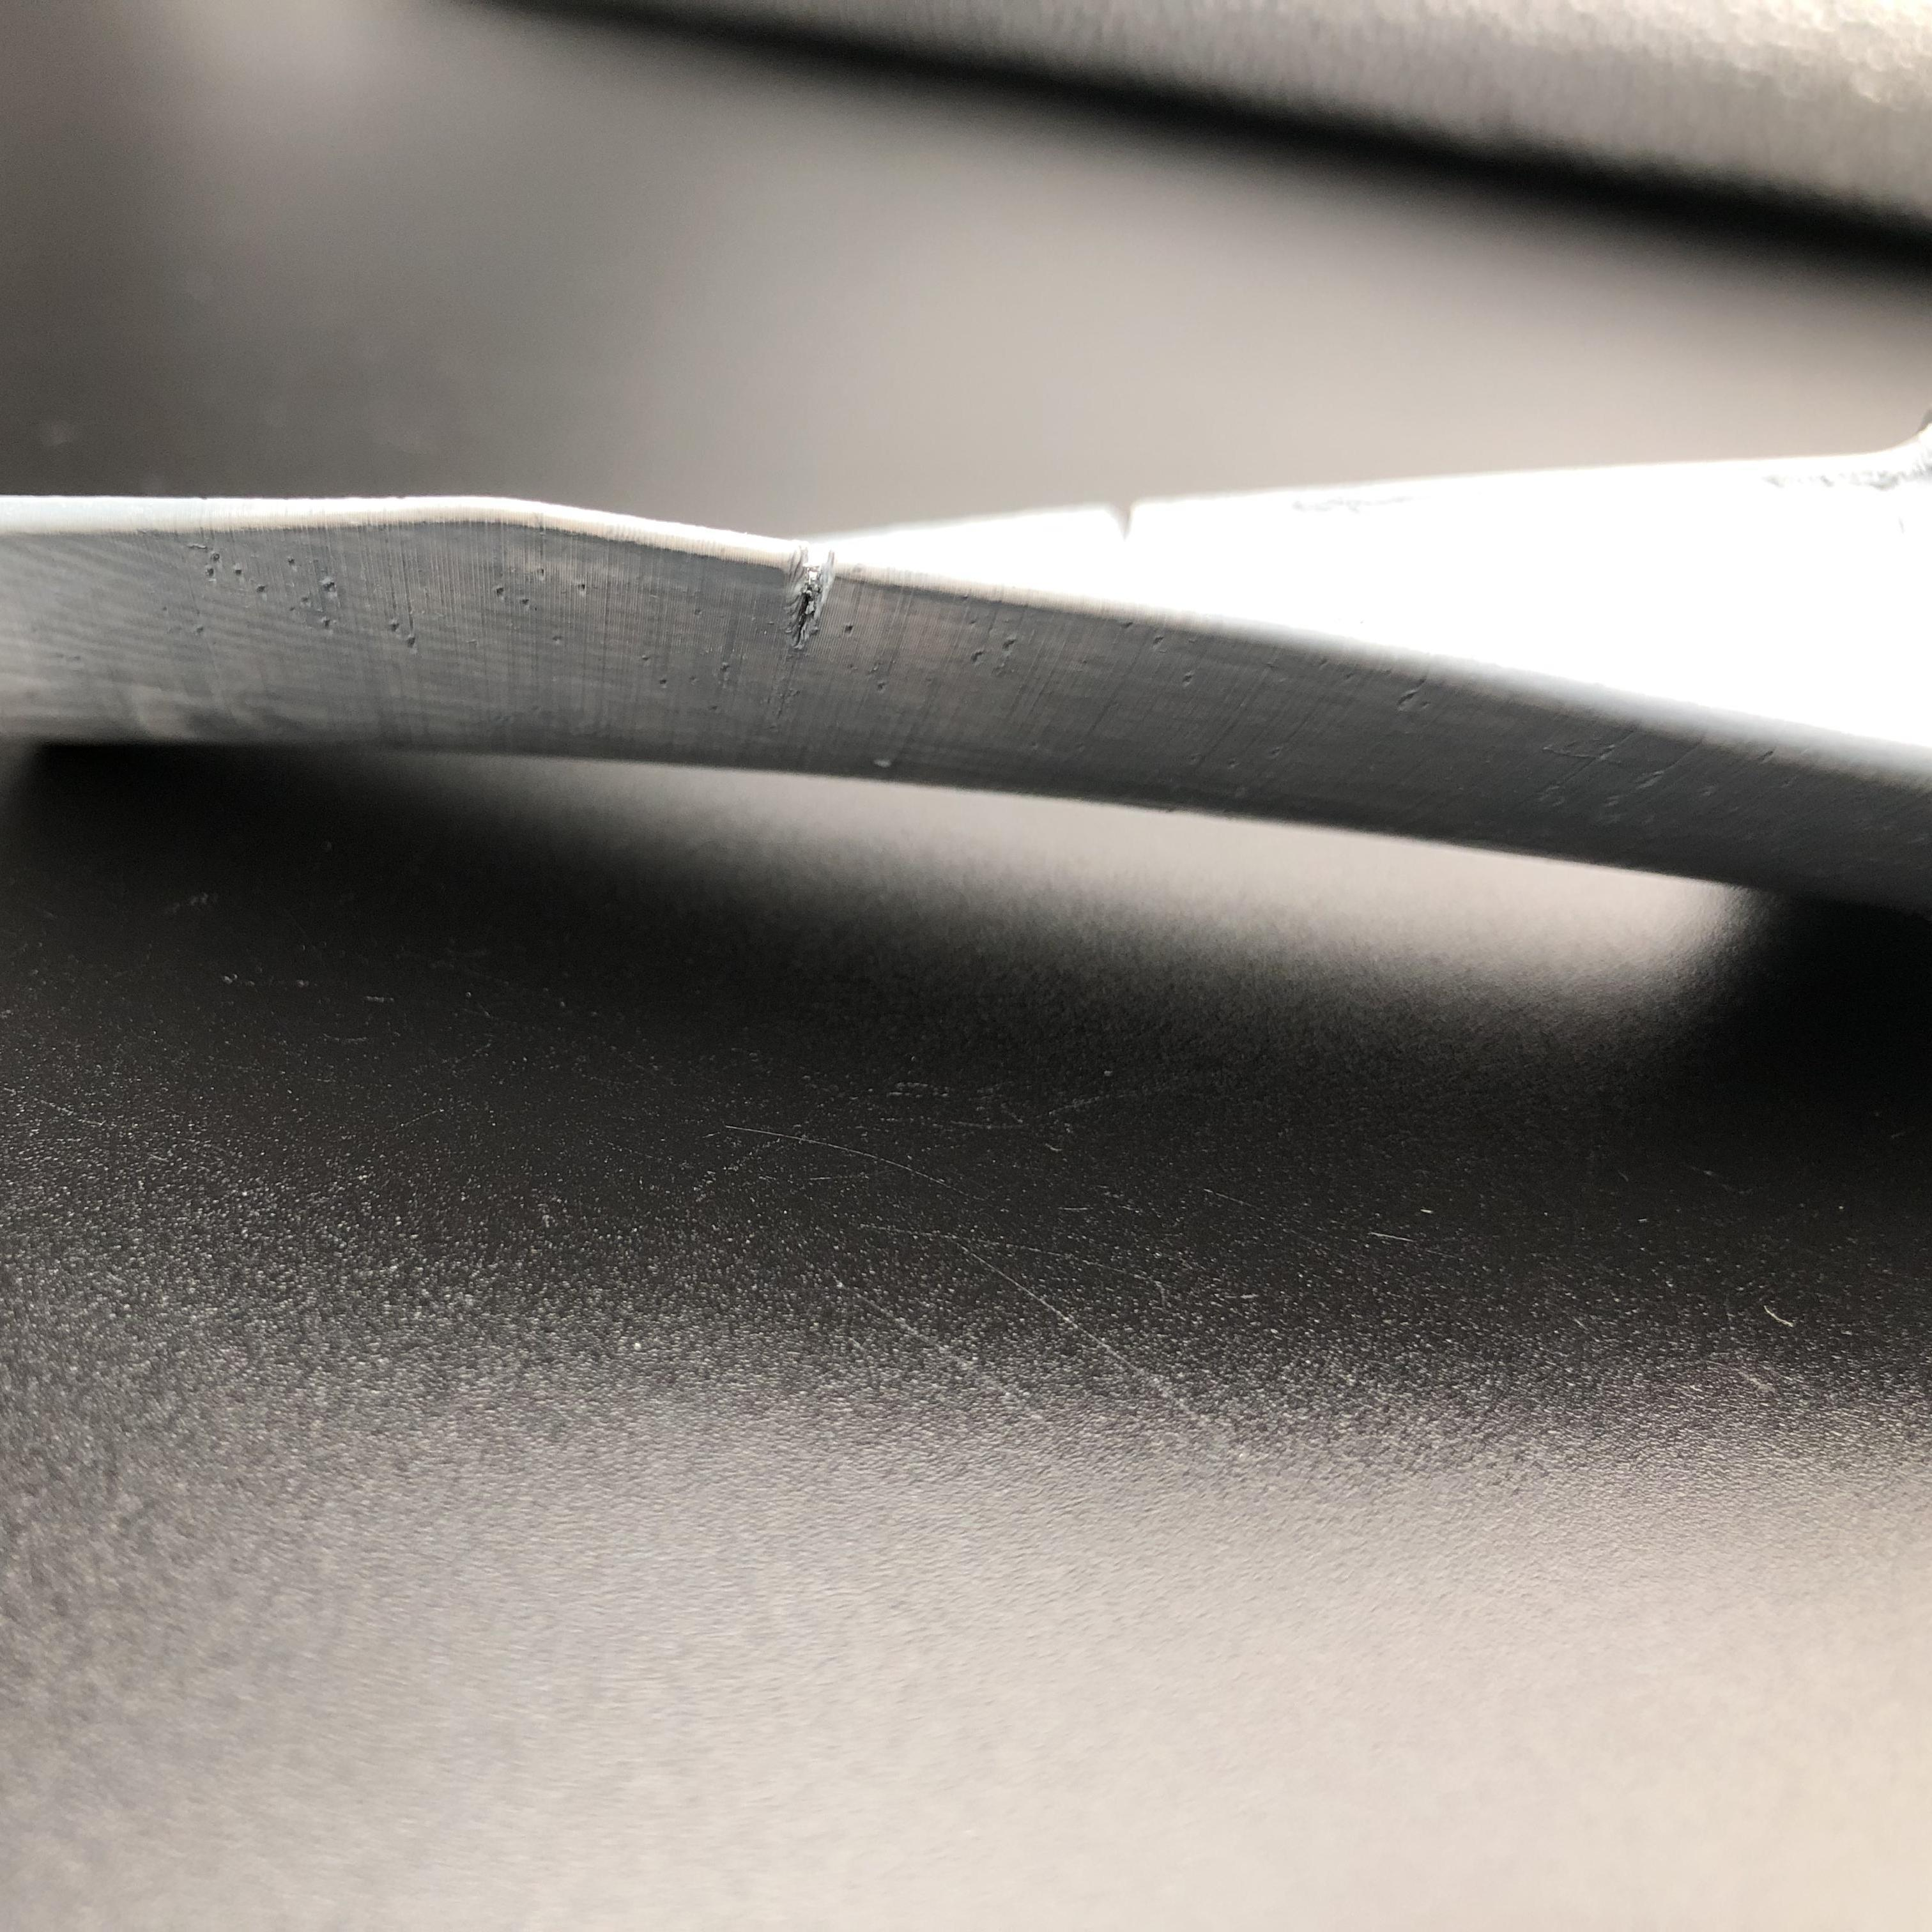groove: (777, 550, 851, 655), (1100, 497, 1171, 538)
